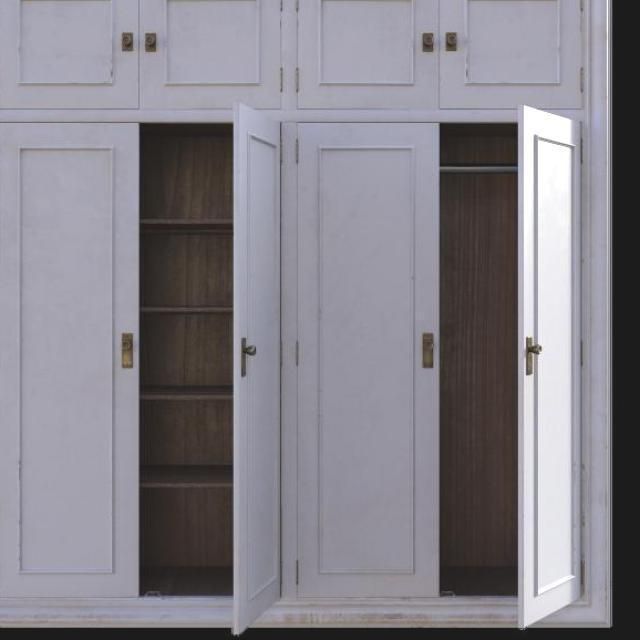door: (298, 109, 452, 612), (2, 119, 142, 599), (506, 92, 588, 636), (218, 94, 282, 640)
